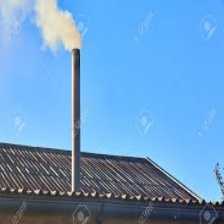smoke: (11, 1, 98, 51)
